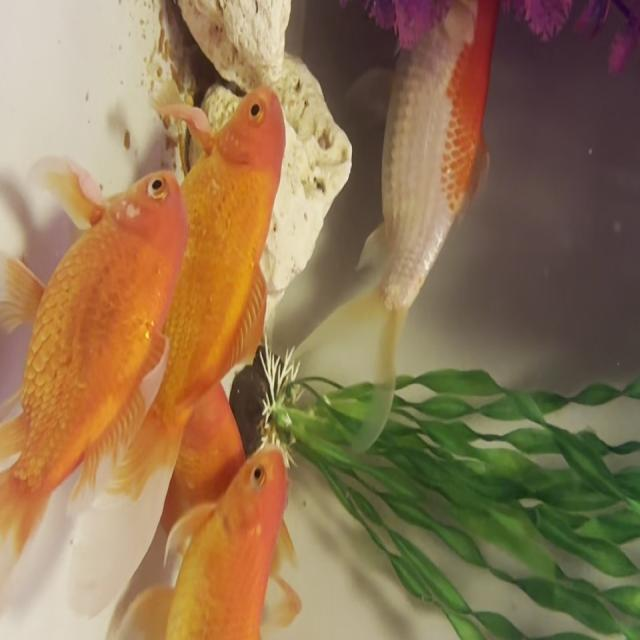fish: (290, 0, 487, 423), (0, 160, 190, 535), (127, 84, 284, 447), (148, 432, 292, 640)
